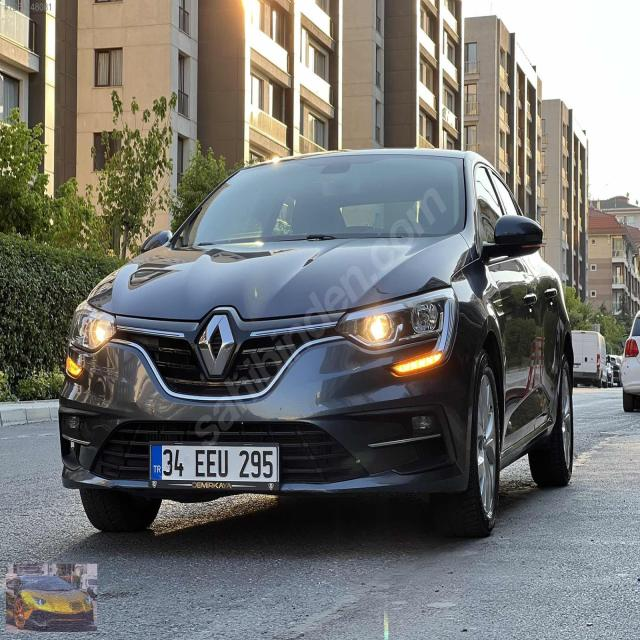renault: (195, 310, 237, 383)
